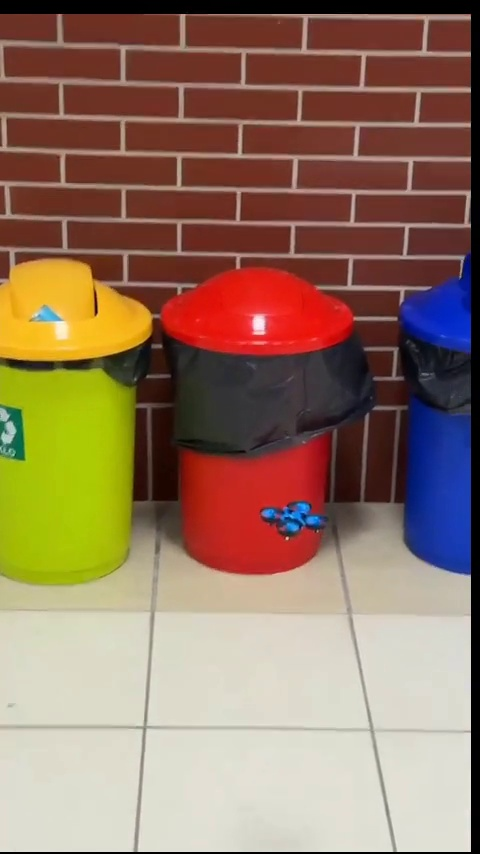drone: (257, 498, 326, 543)
